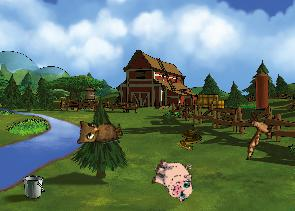eagle: (236, 107, 280, 160)
owl: (72, 110, 124, 149)
pig: (147, 154, 199, 204)
